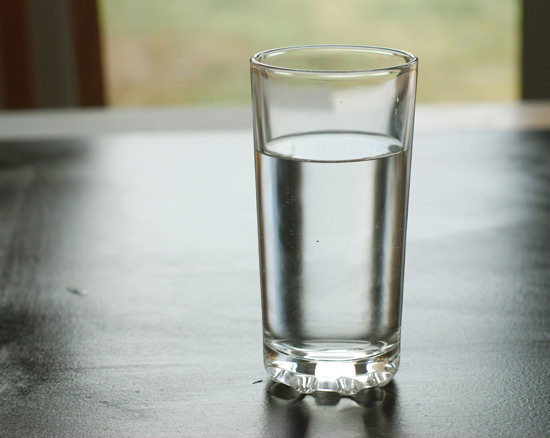glass of water: (258, 81, 405, 389)
